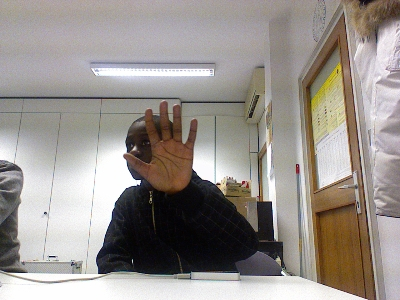布: (121, 100, 198, 194)
